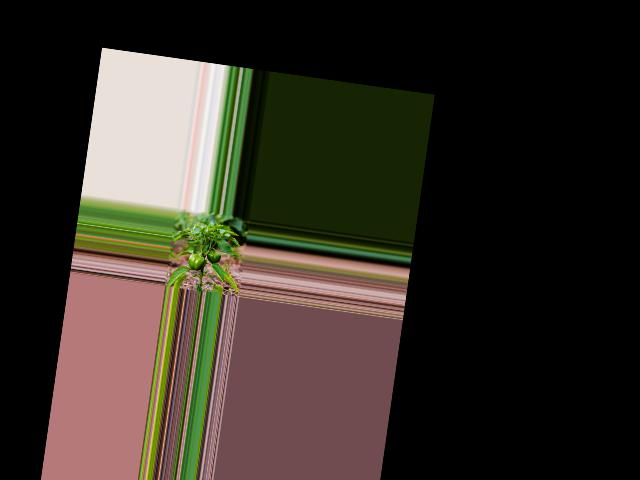bell_pepper: (205, 249, 222, 265)
